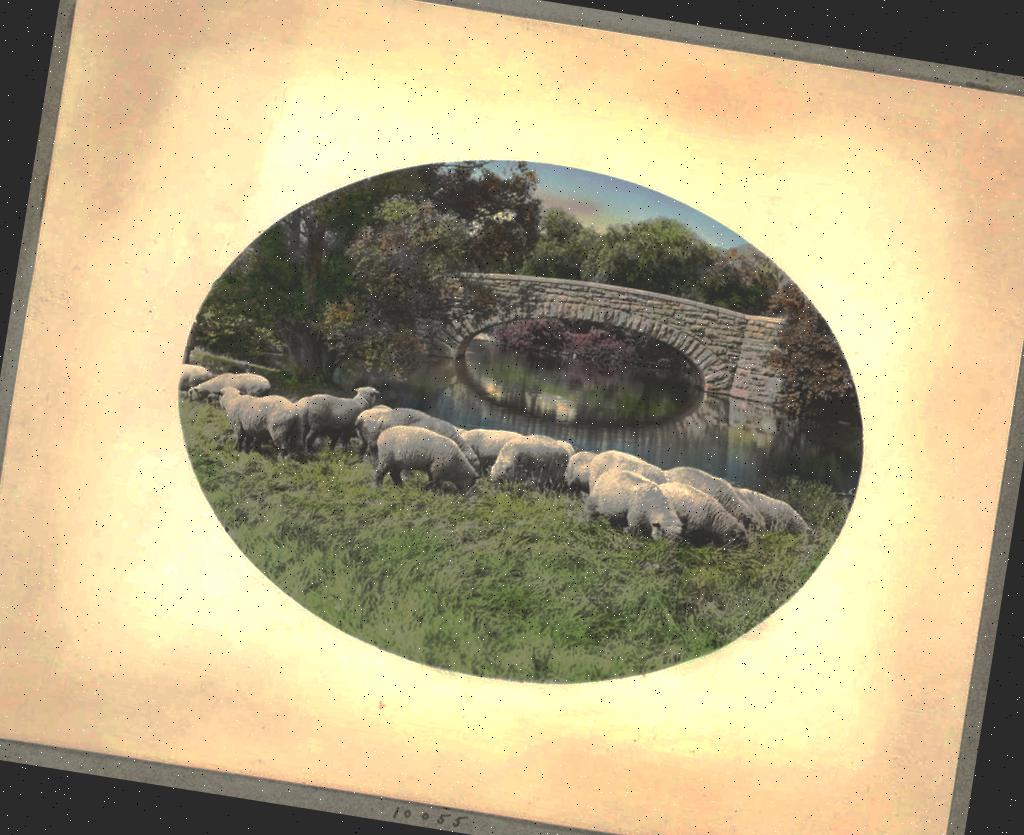Sheep: (366, 419, 490, 500), (282, 368, 382, 465), (200, 381, 312, 464), (572, 461, 689, 540), (654, 480, 768, 554), (487, 427, 577, 505), (673, 463, 768, 529), (586, 442, 678, 508), (398, 412, 488, 478), (734, 485, 832, 544), (186, 362, 279, 414), (348, 396, 402, 465)
